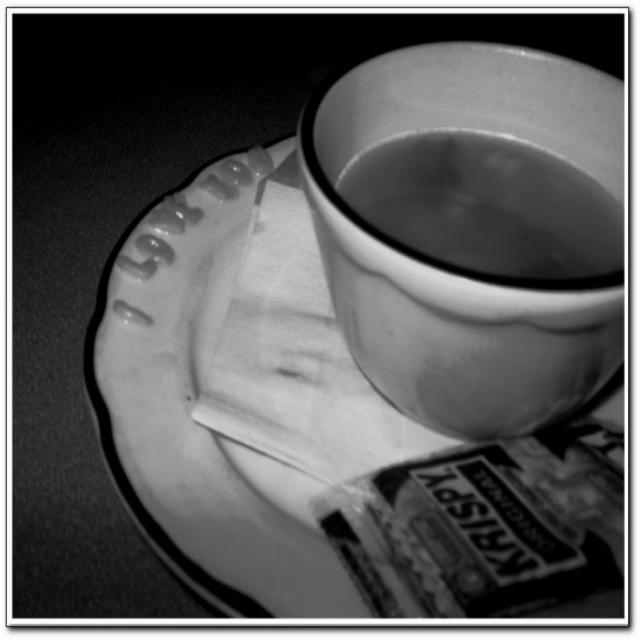Coffee: (330, 127, 626, 286)
